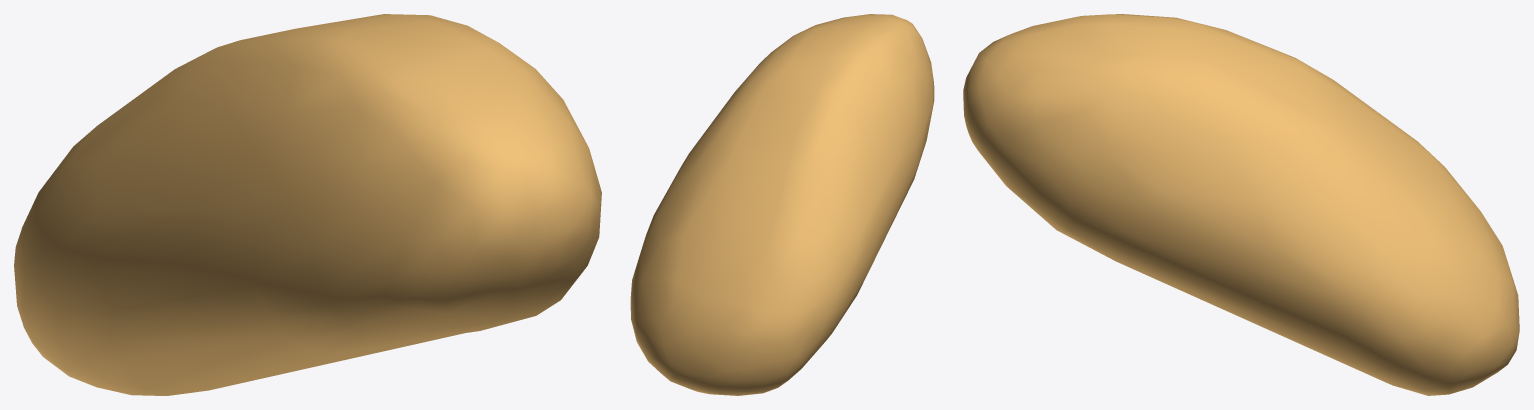
File: glandula-pineal.glb
3 renders of one model, left to right at view 1: azimuth 30°, elevation 25°; view 2: azimuth 150°, elevation 25°; view 3: azimuth 270°, elevation 25°, orthographic. The views are drawn at different scales.
Visible parts, largest first — view 1: glandula-pineal; view 2: glandula-pineal; view 3: glandula-pineal.
Part boxes in pixels (box(x1,y1,x2,y2)): glandula-pineal: box(14, 14, 601, 395); glandula-pineal: box(630, 14, 934, 395); glandula-pineal: box(963, 14, 1519, 395).
Bounding box in the file's own units: 0.00627 × 0.00771 × 0.0114.
